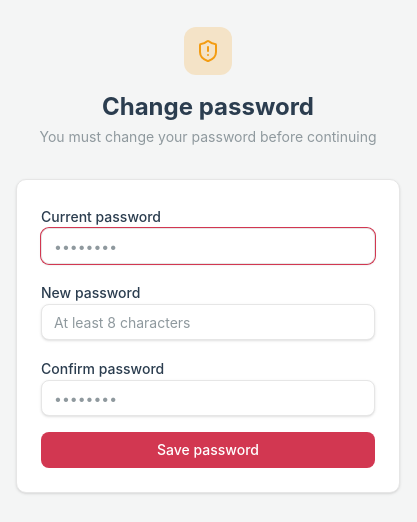
Test case: ChangePasswordPage › shows password mismatch error when passwords differ
The image size is (417, 522).
Type "current-pass" into the password field with test id "current-password-input" at (208, 246), box [41,228,375,264]
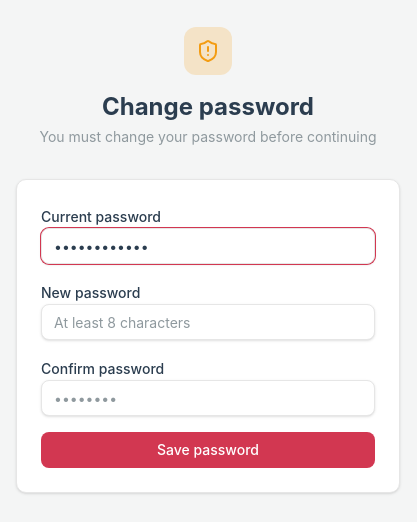
Type "newpassword1" into the password field with test id "new-password-input" at (208, 322), box [41,304,375,340]
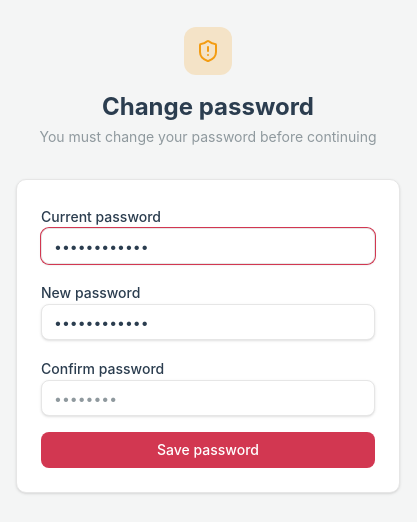
Type "different-pass" into the password field with test id "confirm-password-input" at (208, 398), box [41,380,375,416]
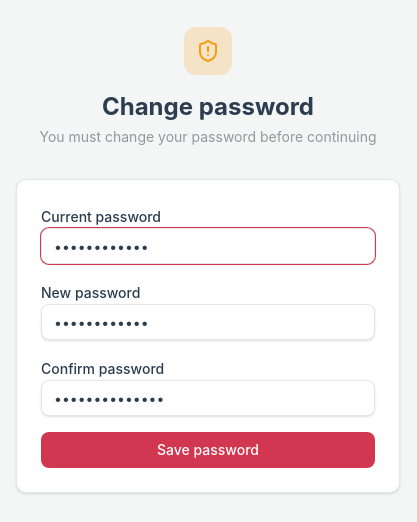
Click the button with test id "change-password-submit" at (208, 450), box [41,432,375,468]
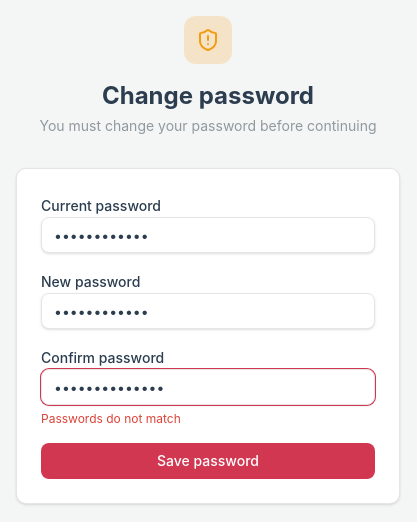
Check: the text "Passwords do not match" is shown, box [41,411,181,426]
